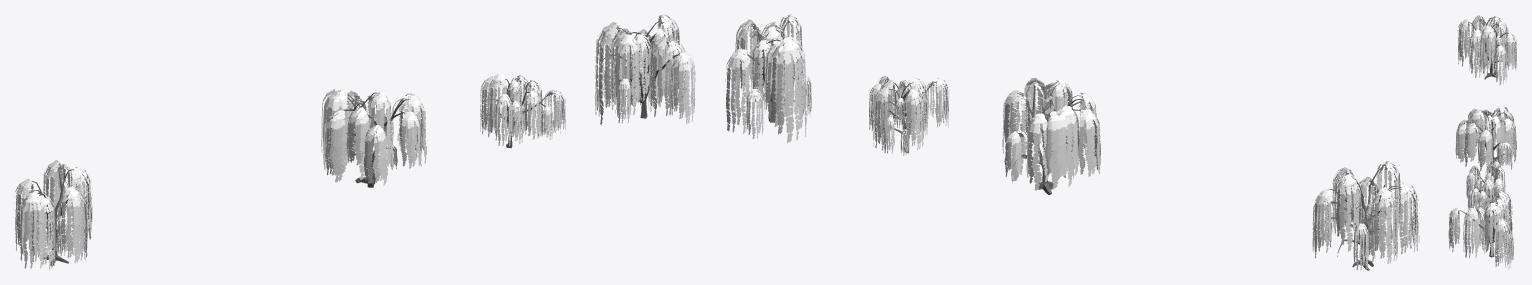
File: Weeping Willow.fbx
The picture shows the model from 3 angles, left to right: view 1: azimuth 30°, elevation 25°; view 2: azimuth 150°, elevation 25°; view 3: azimuth 270°, elevation 25°; orthographic projection. The views are drawn at different scales.
Parts seen in each view (by area): view 1: Willow 1, Willow 3, Willow 4, Willow 2; view 2: Willow 3, Willow 1, Willow 4, Willow 2; view 3: Willow 1, Willow 3, Willow 4, Willow 2.
Boxes of the visible parts, <box> form: Willow 1: <box>594,14,695,125</box>; Willow 3: <box>321,89,426,187</box>; Willow 4: <box>14,160,92,269</box>; Willow 2: <box>480,73,565,148</box>; Willow 3: <box>1002,77,1100,194</box>; Willow 1: <box>725,14,811,143</box>; Willow 4: <box>1312,161,1419,270</box>; Willow 2: <box>869,75,949,155</box>; Willow 1: <box>1448,190,1513,269</box>; Willow 3: <box>1455,106,1516,178</box>; Willow 4: <box>1457,15,1516,85</box>; Willow 2: <box>1466,163,1505,217</box>.
Size of what is drawn, in the model's own units: 16043 by 2456 by 2317.
